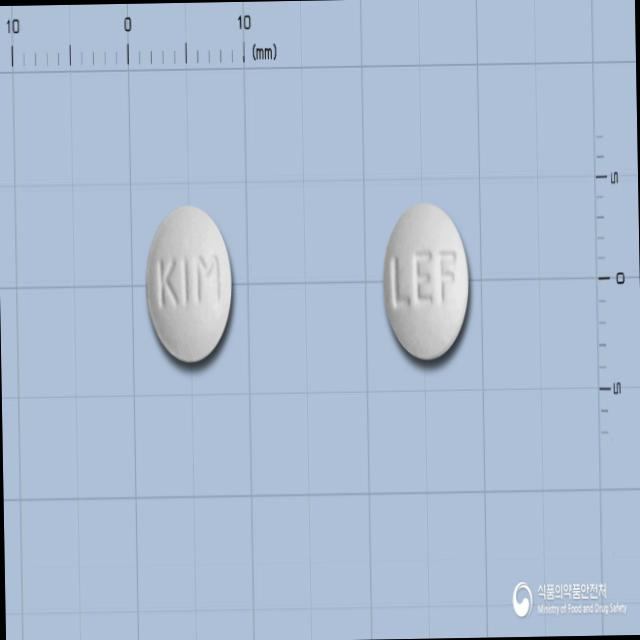Kimara - 20mg: (379, 198, 472, 360), (144, 204, 234, 363)
